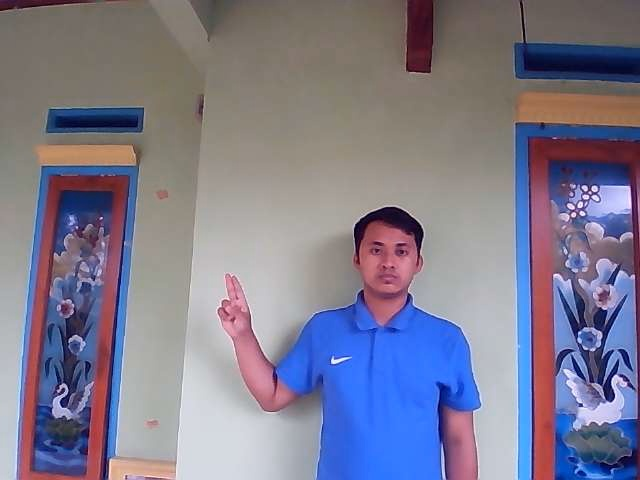U: (217, 272, 250, 337)
